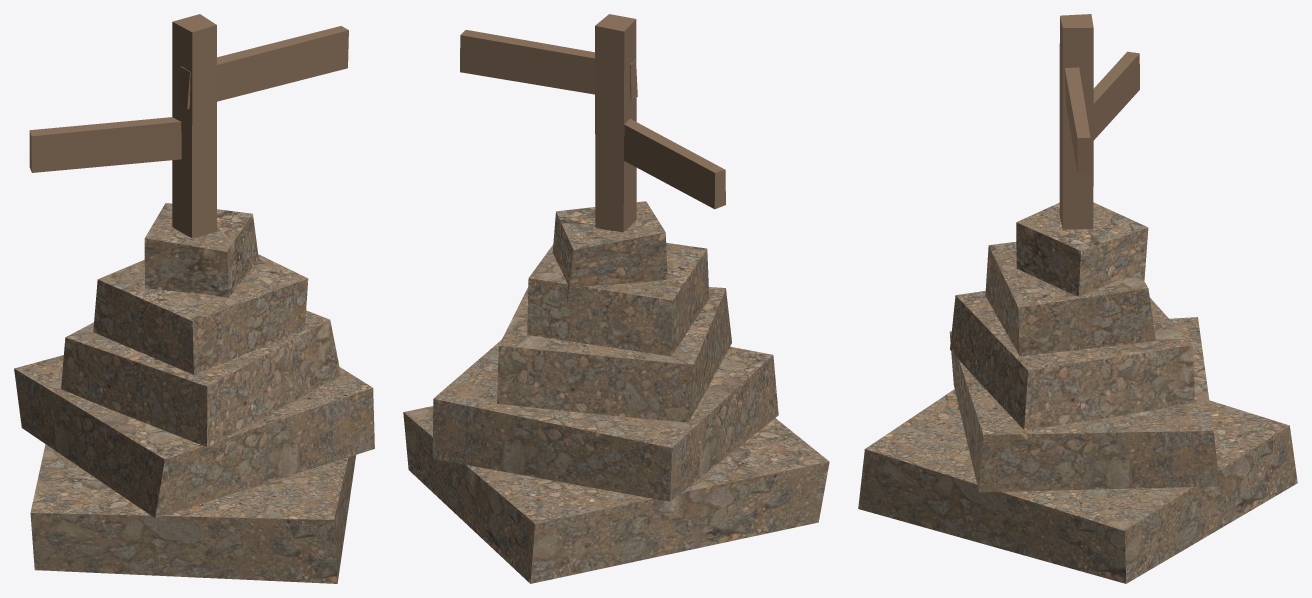
File: hito_mirador.glb
3 renders of one model, left to right at view 1: azimuth 30°, elevation 25°; view 2: azimuth 150°, elevation 25°; view 3: azimuth 270°, elevation 25°, orthographic. The views are drawn at different scales.
Parts seen in each view (by area): view 1: HitoMirador; view 2: HitoMirador; view 3: HitoMirador.
Part boxes in pixels (x1,y1,x2,y2): HitoMirador: (14,14,374,583); HitoMirador: (403,14,829,583); HitoMirador: (858,14,1297,583).
Bounding box in the file's own units: 1.95 × 2.35 × 1.98.
Materials: 2 (1 with a texture image).
